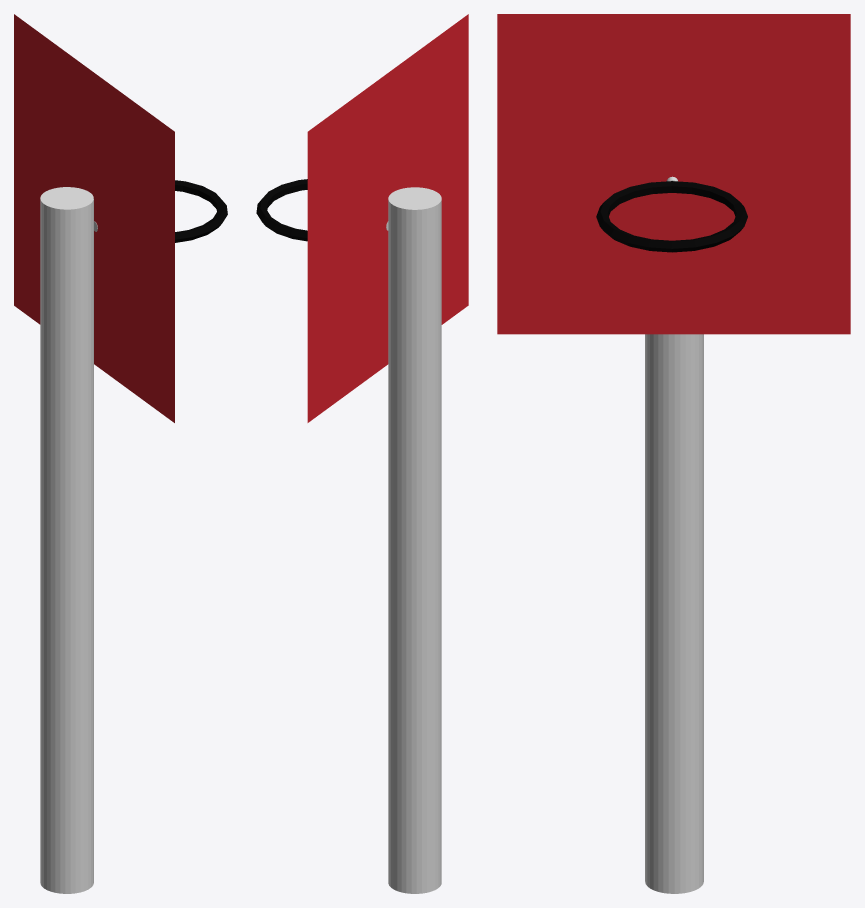
File: ItemsBlender2v.fbx
The picture shows the model from 3 angles, left to right: view 1: azimuth 30°, elevation 25°; view 2: azimuth 150°, elevation 25°; view 3: azimuth 270°, elevation 25°; orthographic projection. The views are drawn at different scales.
Visible parts, largest first — view 1: Cylinder; view 2: Cylinder; view 3: Cylinder.
Boxes of the visible parts, x1,y1,x2,y2 form: Cylinder: [14, 14, 227, 893]; Cylinder: [256, 14, 468, 893]; Cylinder: [497, 14, 850, 893].
Size of the model in its own units: 750 by 3310 by 1202.
